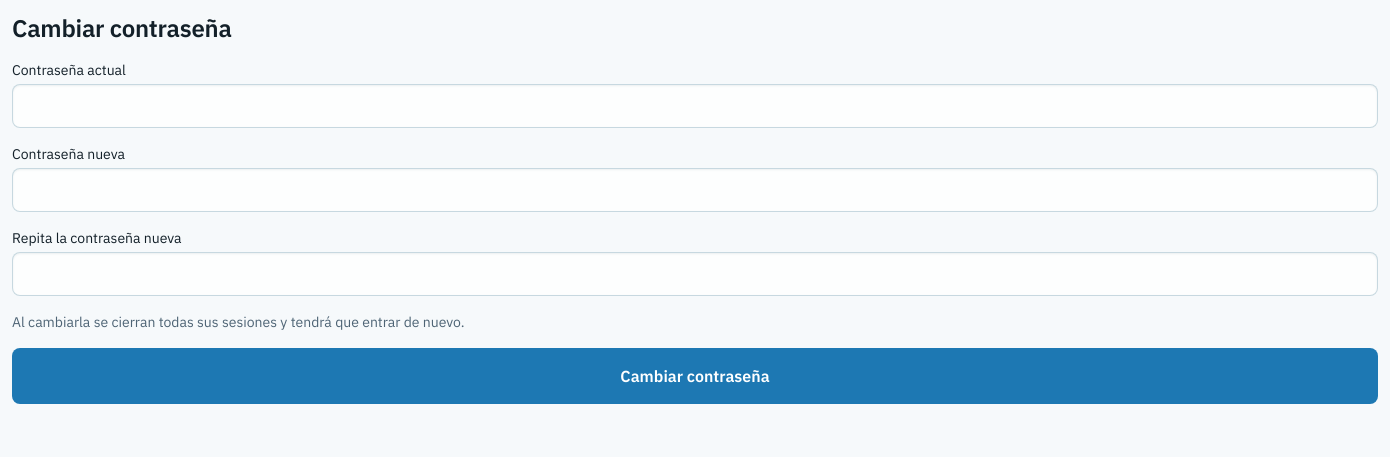
Test case: <ChangePasswordForm /> › muestra el error que devuelve la action
Type "vieja" into the password field labelled "Contraseña actual". click: (695, 106)
box: top-left (12, 84), bottom-right (1378, 128)
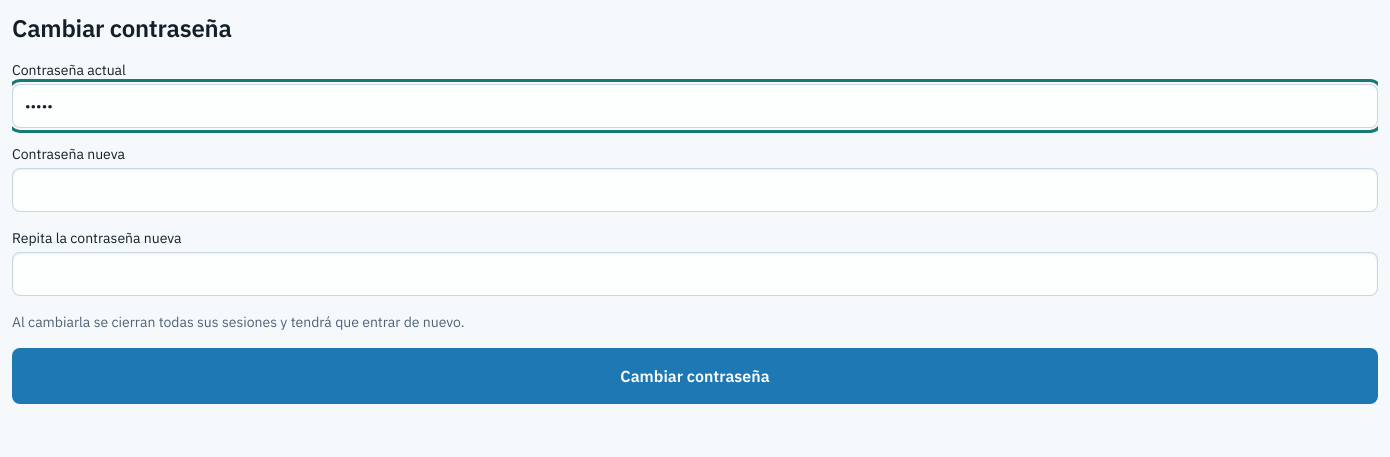
Type "nuevaClave1" into the password field labelled "Contraseña nueva". click: (695, 190)
box: top-left (12, 168), bottom-right (1378, 212)
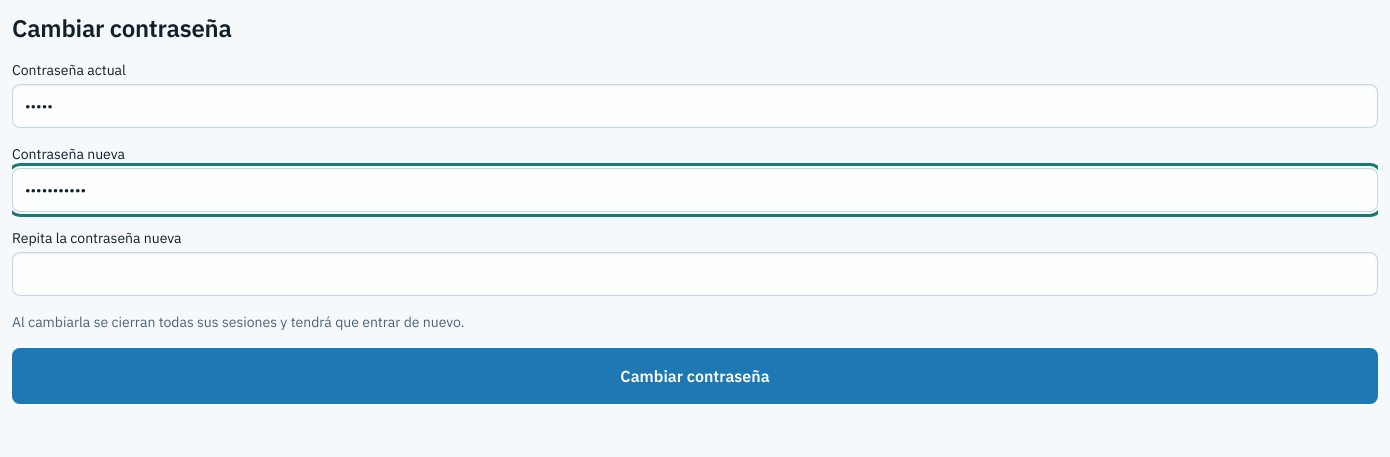
Type "nuevaClave1" into the password field labelled "Repita la contraseña nueva". click: (695, 274)
box: top-left (12, 252), bottom-right (1378, 296)
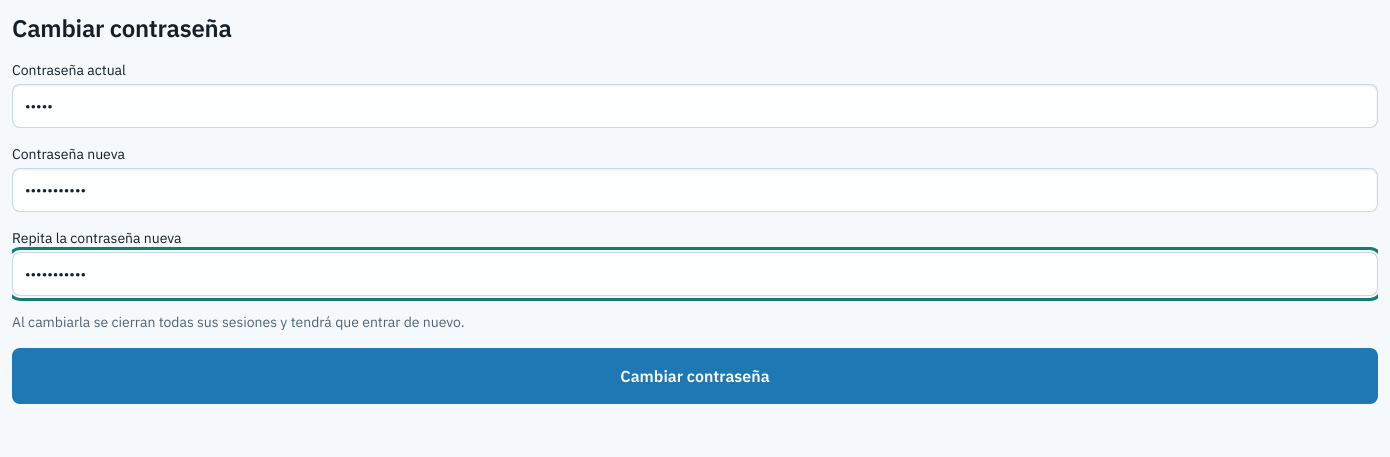
Click the button "Cambiar contraseña". click: (695, 376)
box: top-left (12, 348), bottom-right (1378, 404)
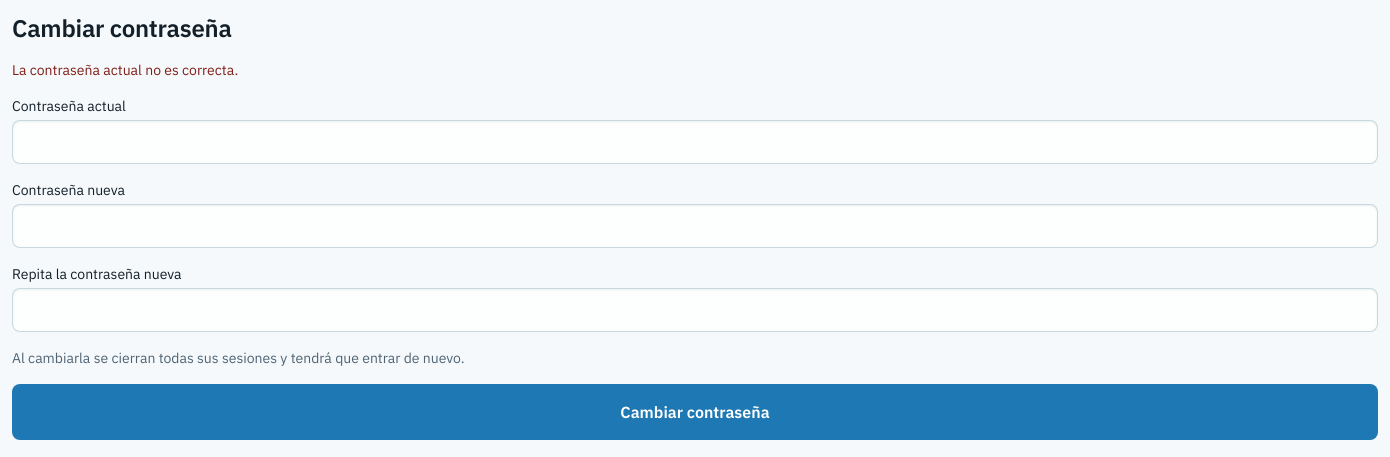
Result: the message reads "La contraseña actual no es correcta." at top-left (12, 61), bottom-right (238, 79)
